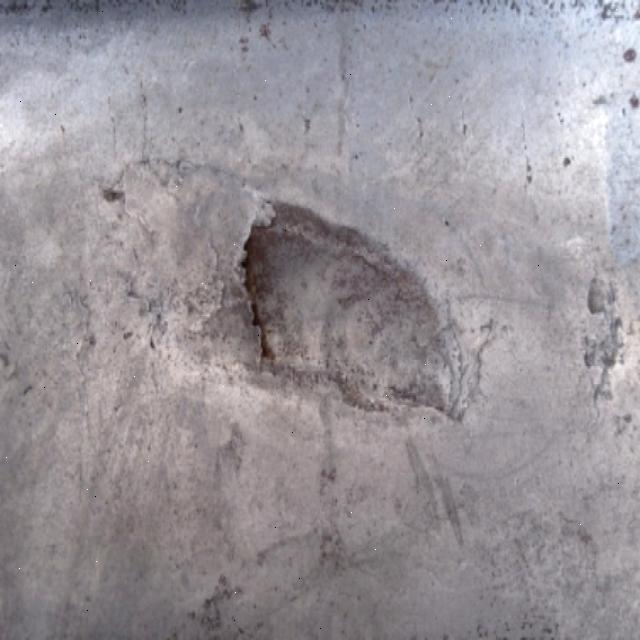boli: (208, 164, 472, 454)
